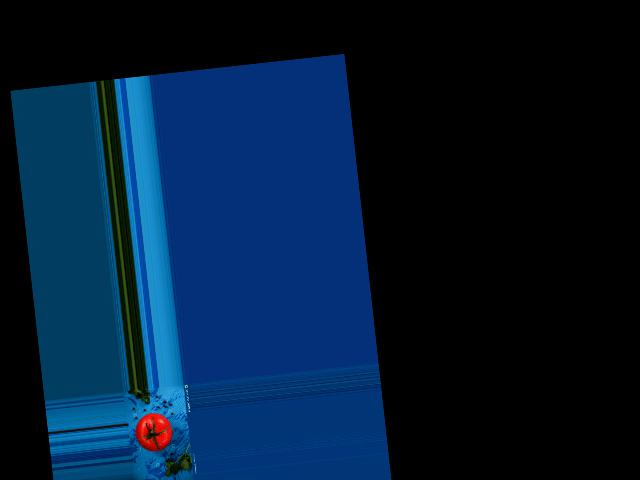tomato: (134, 411, 174, 453)
